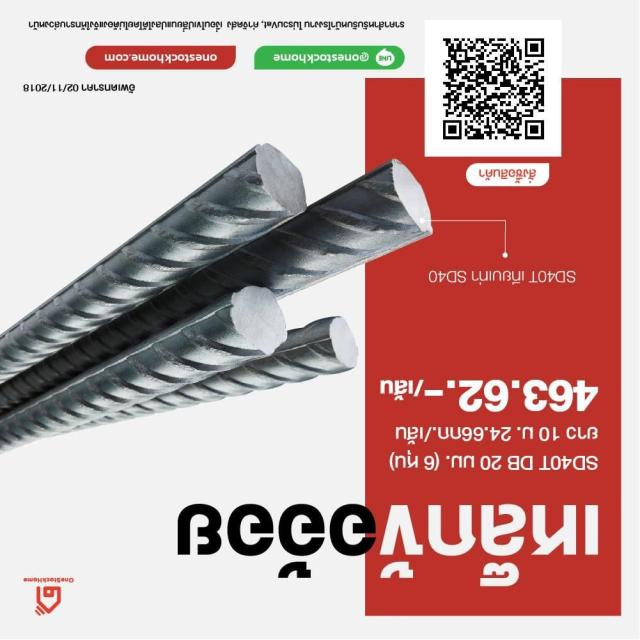Rebar: (243, 145, 320, 219), (230, 287, 294, 359), (383, 159, 431, 245), (325, 316, 367, 374)
